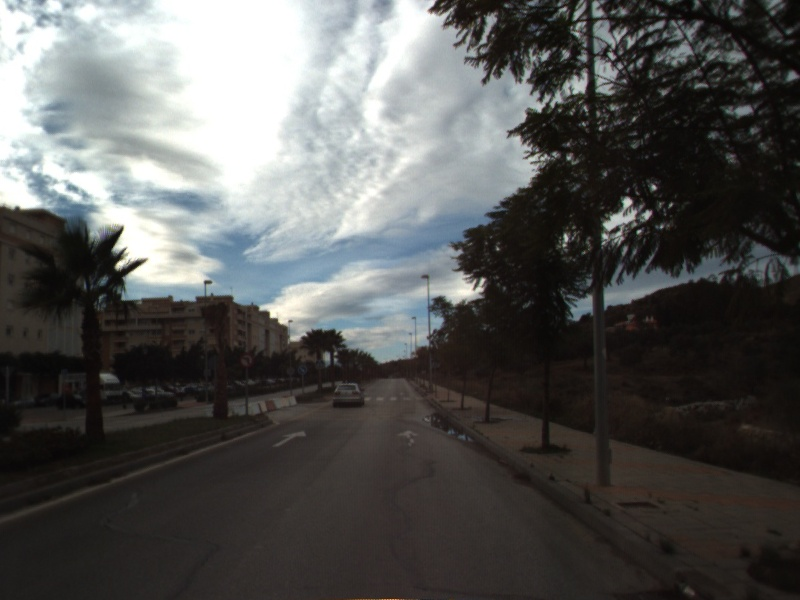STRAIGHT: (270, 429, 308, 449), (395, 428, 421, 449)
